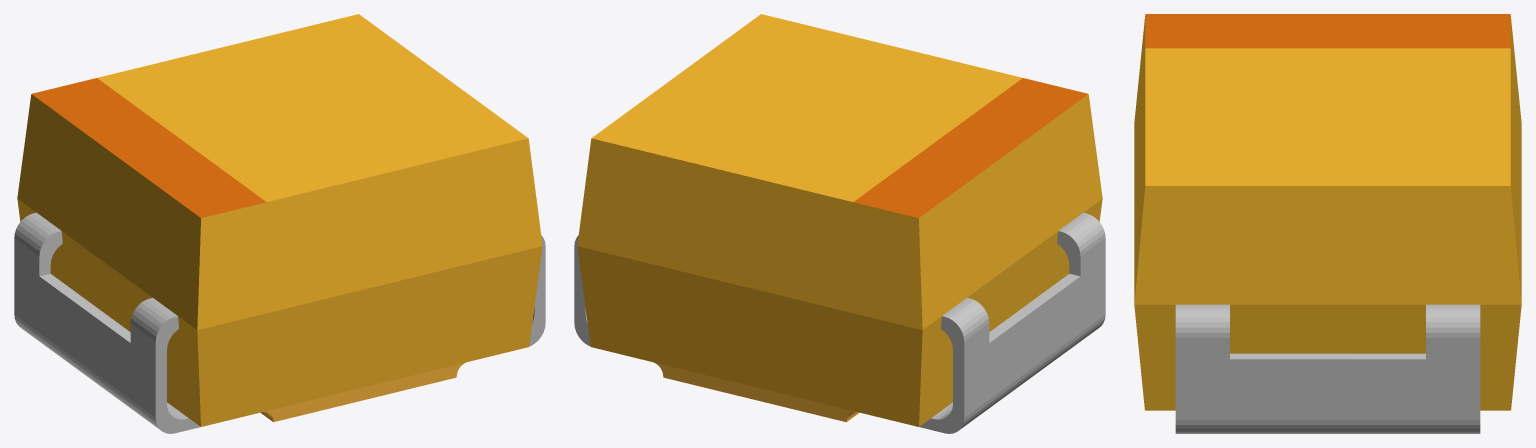
The model's file is 06_AVX_1210_TANTALIO_NEWARK_60R5884.obj.
3 renders of one model, left to right at view 1: azimuth 30°, elevation 25°; view 2: azimuth 150°, elevation 25°; view 3: azimuth 270°, elevation 25°, orthographic. The views are drawn at different scales.
Parts seen in each view (by area): view 1: 06_AVX_1210_TANTALIO_NEWARK_60R5884; view 2: 06_AVX_1210_TANTALIO_NEWARK_60R5884; view 3: 06_AVX_1210_TANTALIO_NEWARK_60R5884.
Boxes of the visible parts, x1,y1,x2,y2 form: 06_AVX_1210_TANTALIO_NEWARK_60R5884: (14, 14, 545, 433); 06_AVX_1210_TANTALIO_NEWARK_60R5884: (574, 14, 1105, 433); 06_AVX_1210_TANTALIO_NEWARK_60R5884: (1134, 14, 1521, 433).
Size of the model in its own units: 0.0139 by 0.00756 by 0.0111.
